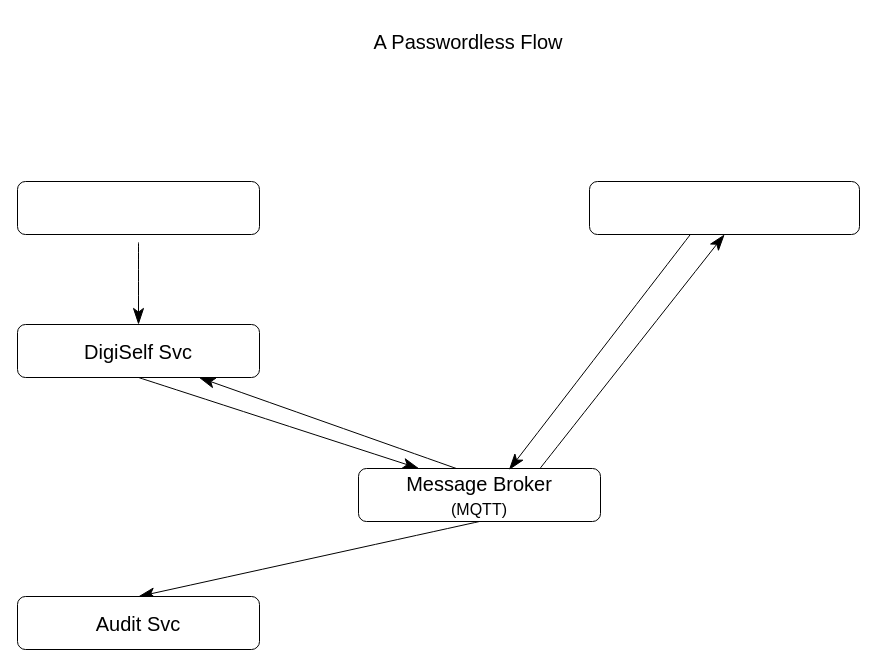
Some shapes in this 877 by 667 pixel diagram are drawn without their labels. The shapes that lost their labels are listed below. From the top down, each one's centre as x and y in pixels, then its label:
At (138,207): "DigiSelf UI".
At (724,207): "Mobile App".
